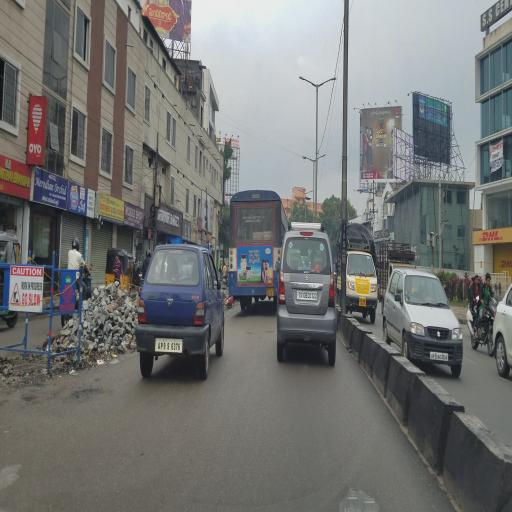street_light_0: (316, 68, 342, 100), (292, 68, 316, 100), (312, 147, 330, 167), (296, 147, 314, 167)
